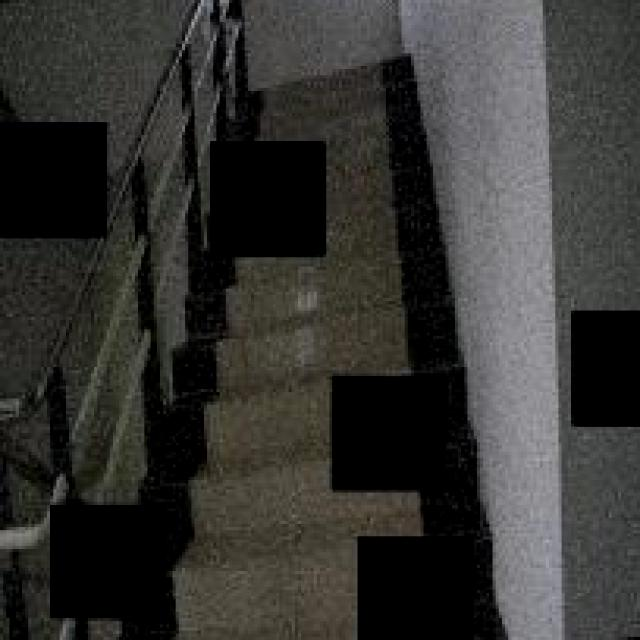upstair: (193, 290, 328, 625)
